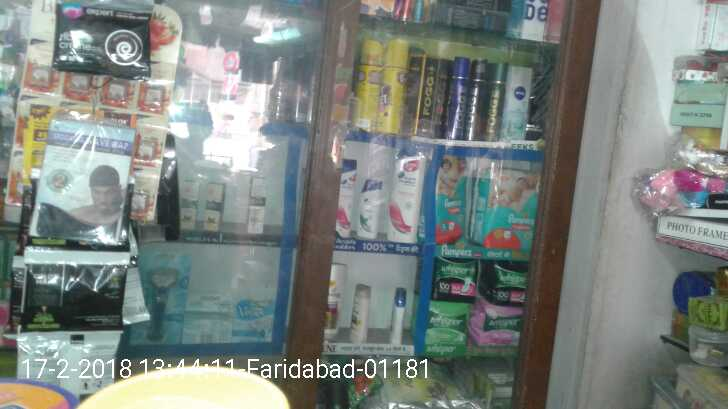venus: (132, 250, 189, 346), (189, 296, 229, 344), (233, 297, 273, 341)
